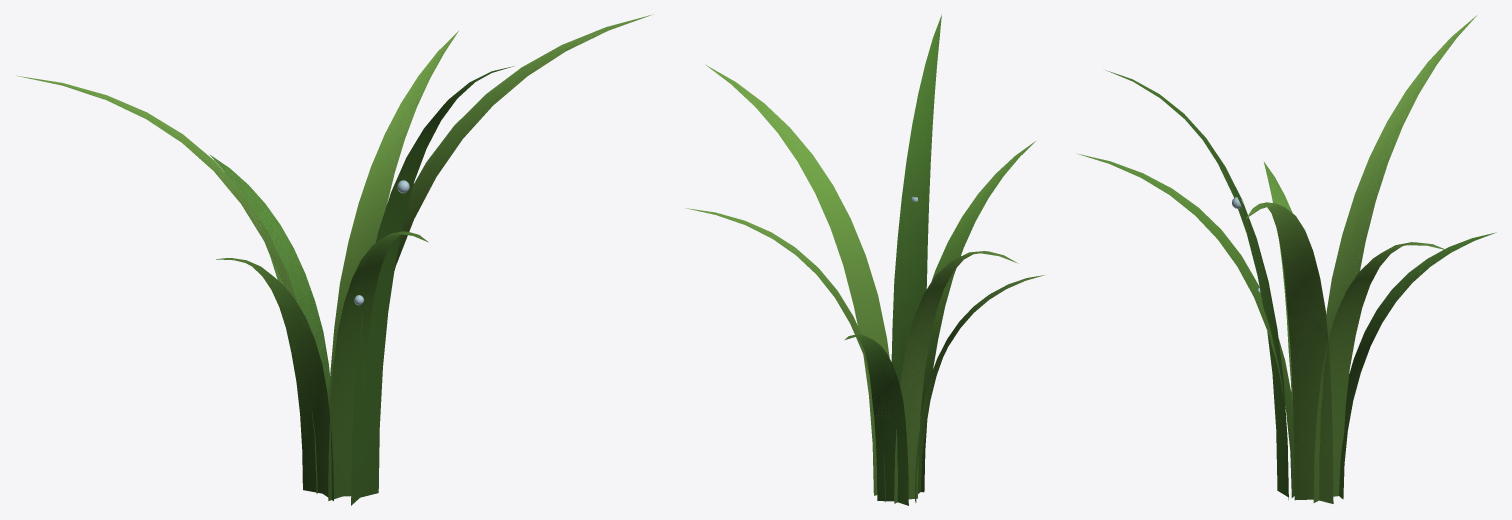
The model's file is grass-3.obj.
3 renders of one model, left to right at view 1: azimuth 30°, elevation 25°; view 2: azimuth 150°, elevation 25°; view 3: azimuth 270°, elevation 25°, orthographic. The views are drawn at different scales.
Visible parts, largest first — view 1: grass; view 2: grass; view 3: grass.
Part boxes in pixels (left/top/right/bottom): grass: left=16, top=14, right=653, bottom=505; grass: left=685, top=14, right=1044, bottom=505; grass: left=1077, top=15, right=1496, bottom=503.
Bounding box in the file's own units: 2052 × 1876 × 1586.
